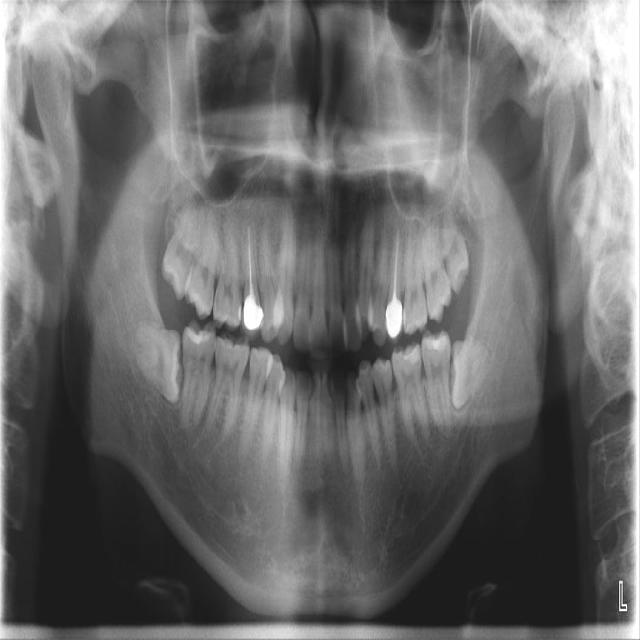Crown: (242, 293, 264, 332), (386, 300, 402, 339)
Filling: (421, 337, 446, 364), (398, 346, 420, 364), (189, 330, 210, 344)
Root Canal Treatment: (247, 229, 254, 297), (394, 231, 399, 299)
impacted tooth: (127, 326, 182, 398), (450, 344, 497, 411)
